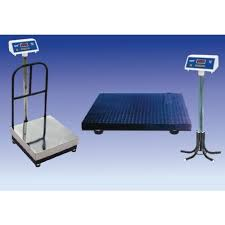Industrial Scale: (85, 53, 223, 162), (8, 39, 81, 167)
